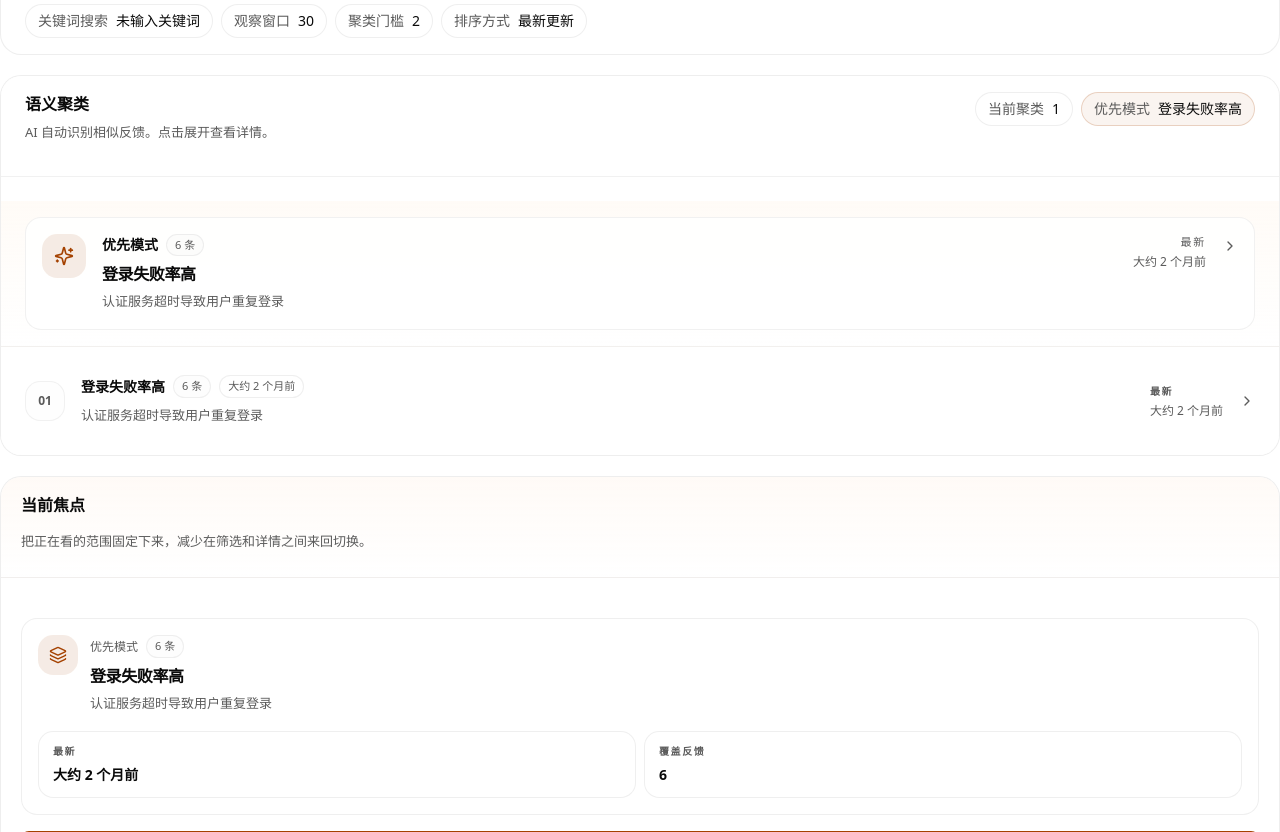
Scenario: ClustersPage › pages through members and closes the selected cluster sheet
(page scrolled)
Expected: the 1st text "登录失败率高" is shown, [1158,99,1242,119]
Click the button with aria-label "登录失败率高, 6 6 条" at (45, 401), box [1,347,1279,455]
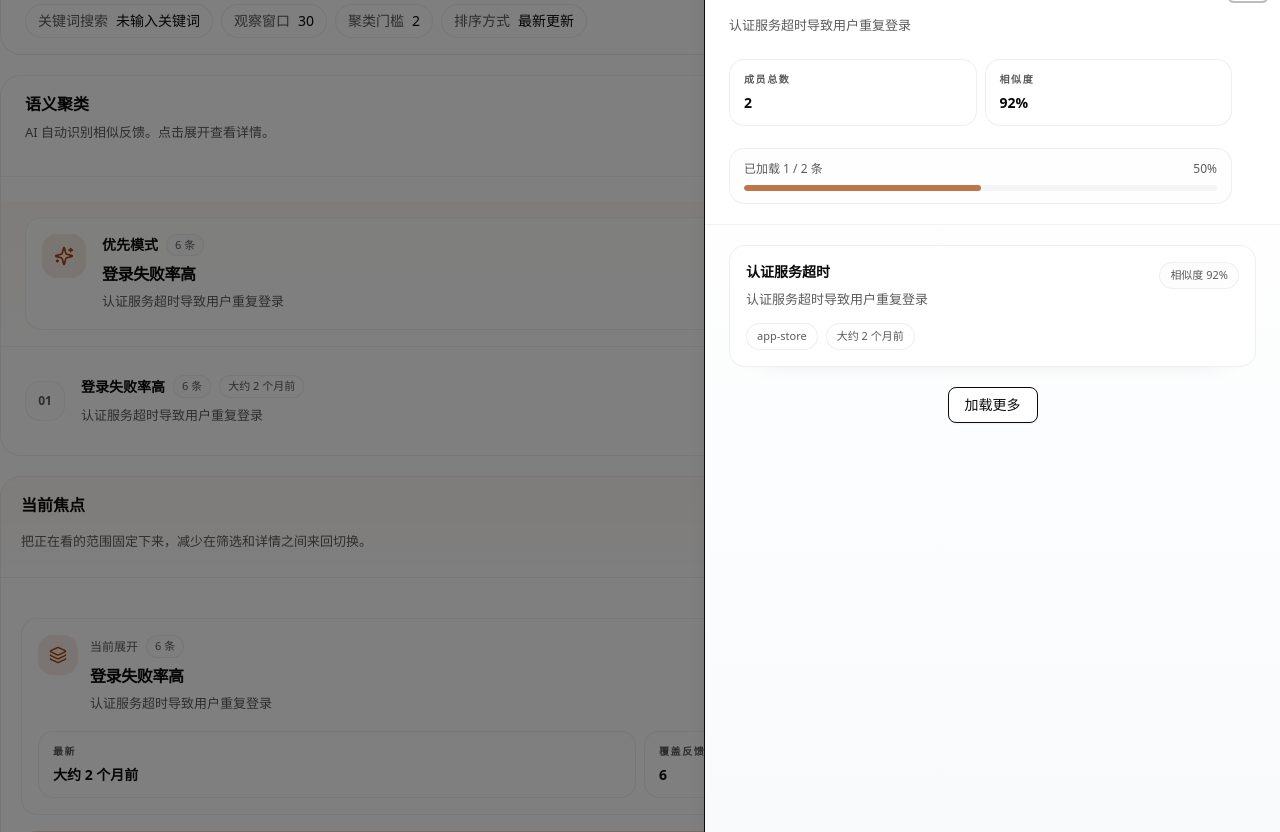
Now the text "成员总数" is shown, box [744,72,790,86]
Click the button "加载更多" at (992, 405), box [948,387,1038,423]
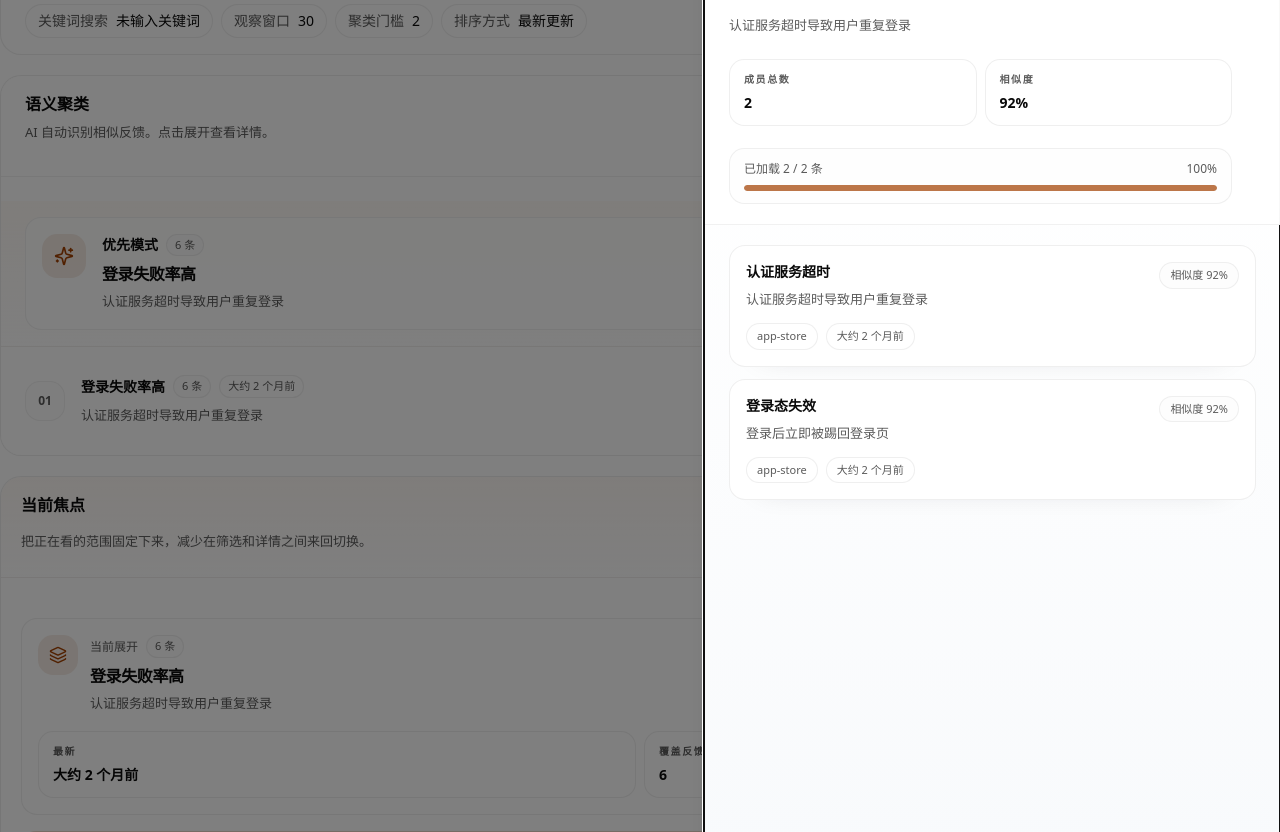
Now the text "登录态失效" is shown, box [746,396,816,415]
Press Escape
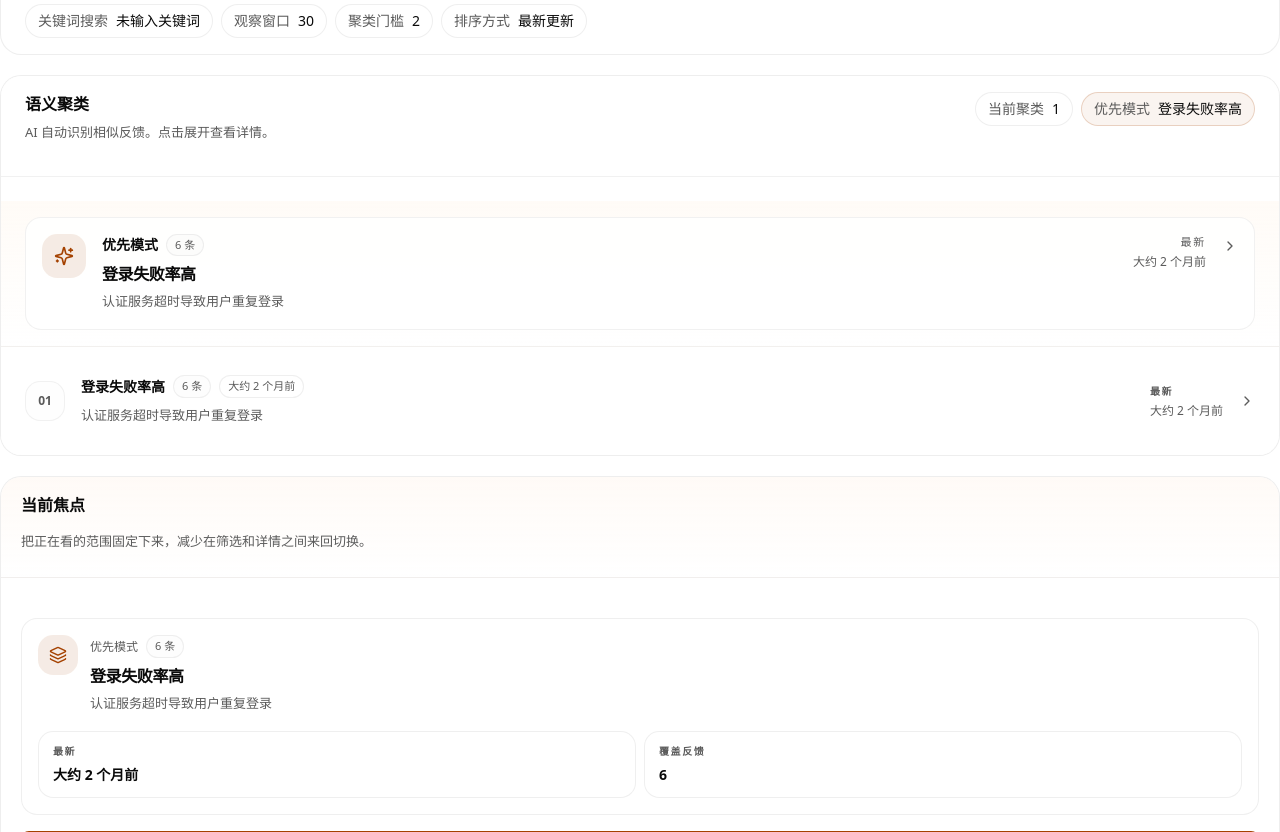
Now the text "成员总数" is gone
